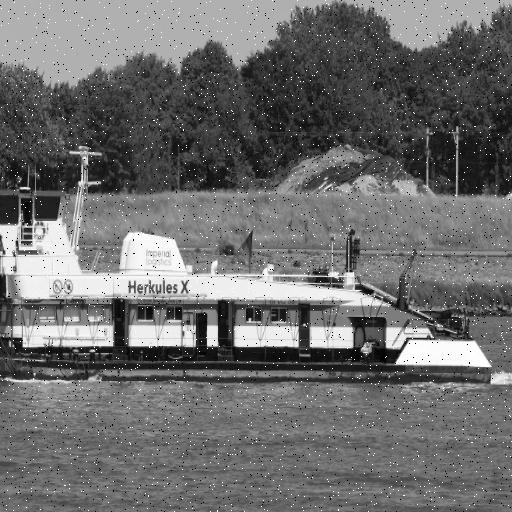tugboat: (1, 145, 496, 391)
